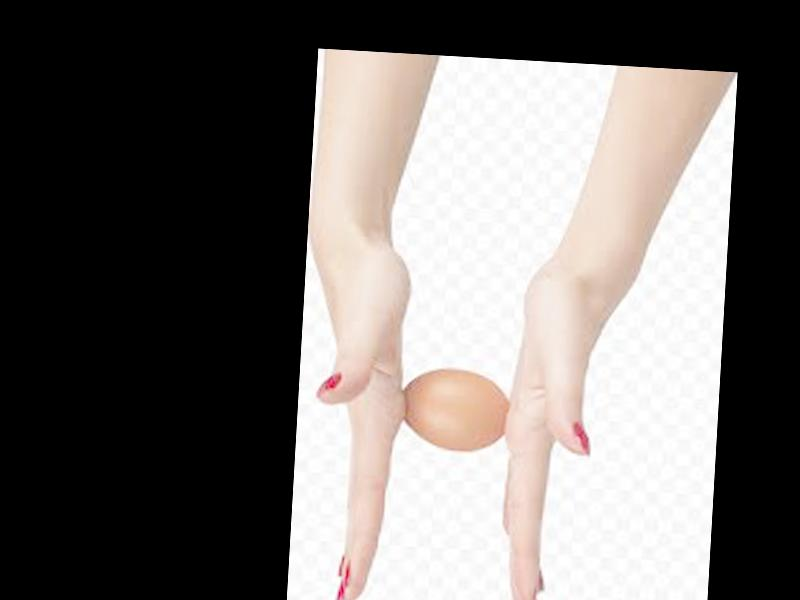Eggs: (401, 366, 511, 451)
